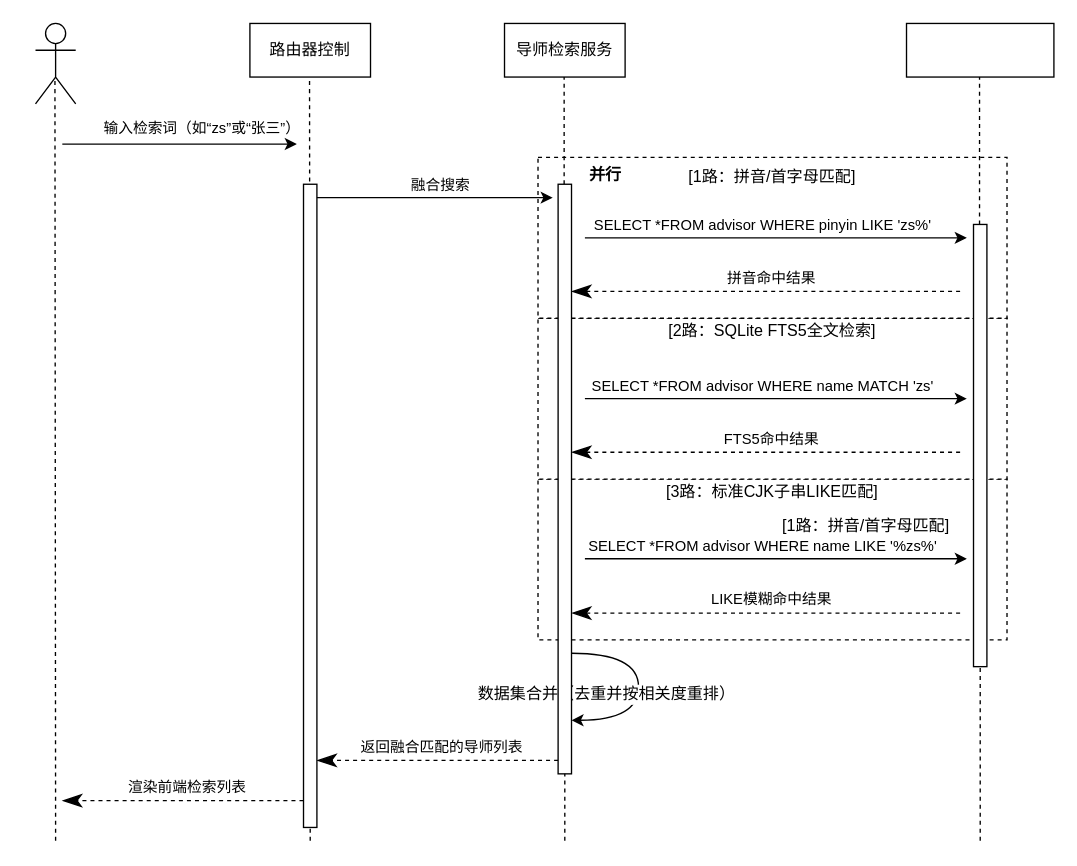
Some shapes in this 1077 by 866 pixel diagram are drawn without their labels. Each missing label, with the centre of its shape:
匿名访客: the point at 55,63
独立只读数据库: the point at 979,49
